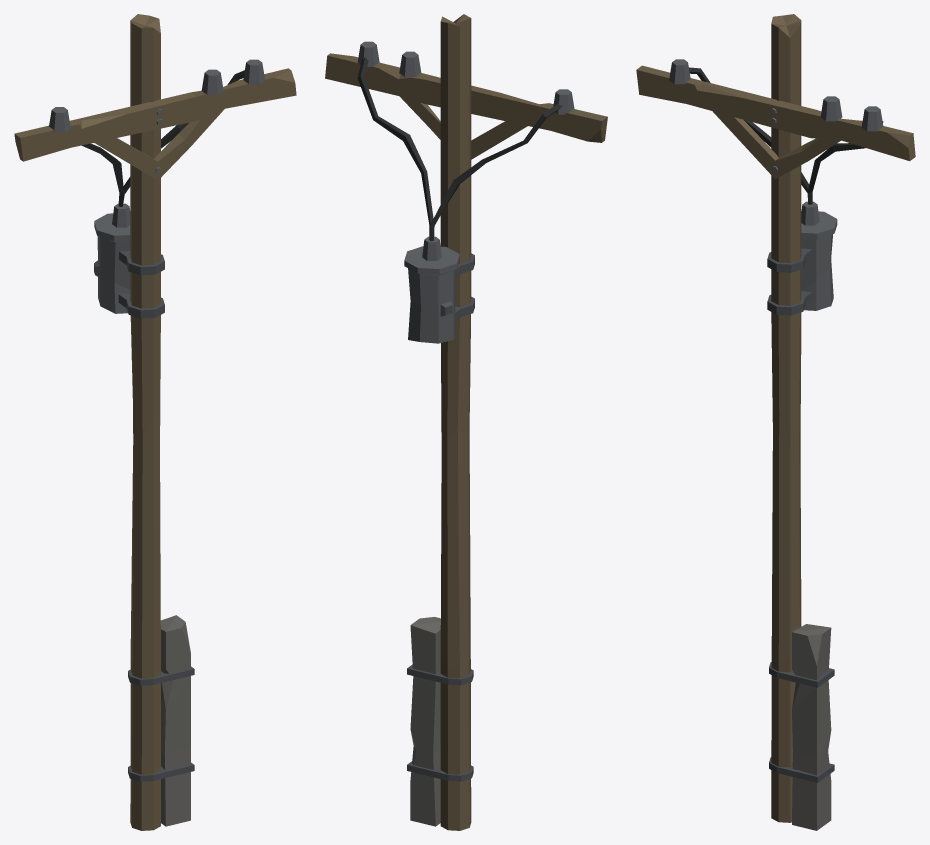
Rendered from Powerpole_01.fbx.
The picture shows the model from 3 angles, left to right: view 1: azimuth 30°, elevation 25°; view 2: azimuth 150°, elevation 25°; view 3: azimuth 330°, elevation 25°; orthographic projection.
Parts seen in each view (by area): view 1: Powerpole_01; view 2: Powerpole_01; view 3: Powerpole_01.
Boxes of the visible parts, <box> form: Powerpole_01: <box>14,14,296,830</box>; Powerpole_01: <box>325,14,607,830</box>; Powerpole_01: <box>636,14,915,830</box>.
Bounding box in the file's own units: 2.15 × 5.98 × 0.7326.
